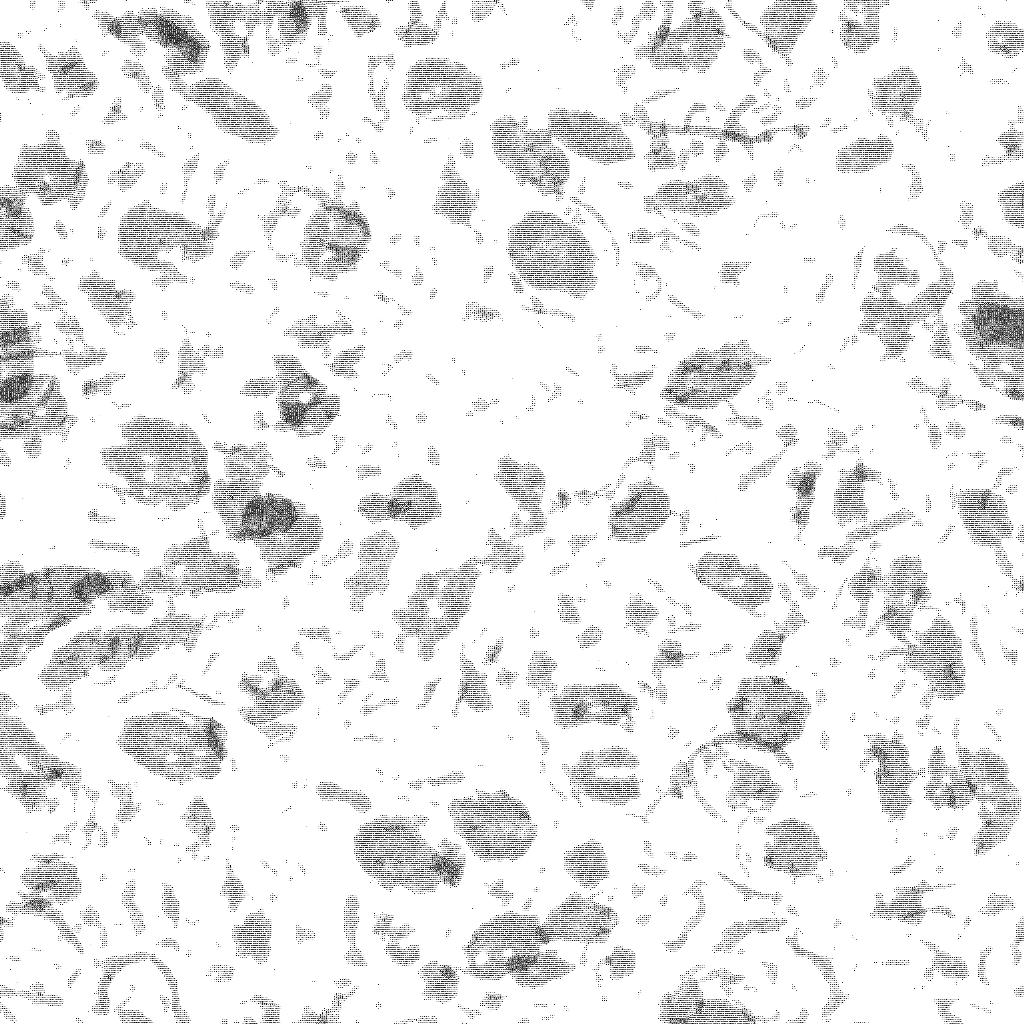axone: (94, 410, 215, 519), (341, 810, 472, 902), (202, 430, 303, 543), (109, 706, 238, 790), (500, 207, 604, 302), (114, 195, 222, 286), (652, 330, 770, 413), (237, 489, 338, 581), (448, 894, 547, 986), (485, 106, 576, 204), (441, 785, 541, 869), (727, 667, 817, 760), (265, 347, 351, 444), (894, 606, 976, 703), (957, 740, 1024, 858), (538, 98, 646, 171), (176, 73, 282, 147), (1, 133, 96, 214), (397, 50, 489, 129), (859, 722, 922, 833), (73, 256, 150, 346), (686, 545, 781, 617), (228, 659, 313, 739), (637, 1, 728, 75), (297, 194, 374, 280), (350, 467, 452, 531), (533, 890, 630, 957), (545, 676, 647, 738), (489, 447, 554, 539), (751, 817, 835, 884), (944, 485, 1023, 556), (601, 478, 680, 547), (639, 171, 743, 221), (343, 523, 397, 614), (36, 38, 108, 104), (421, 161, 485, 232), (752, 1, 827, 59), (552, 835, 620, 898), (868, 68, 931, 130), (828, 127, 898, 179)
